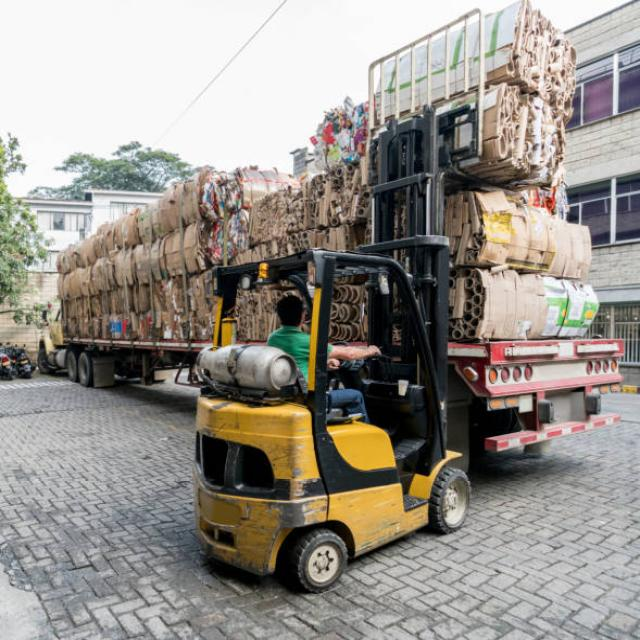cardboard: (25, 46, 586, 333)
